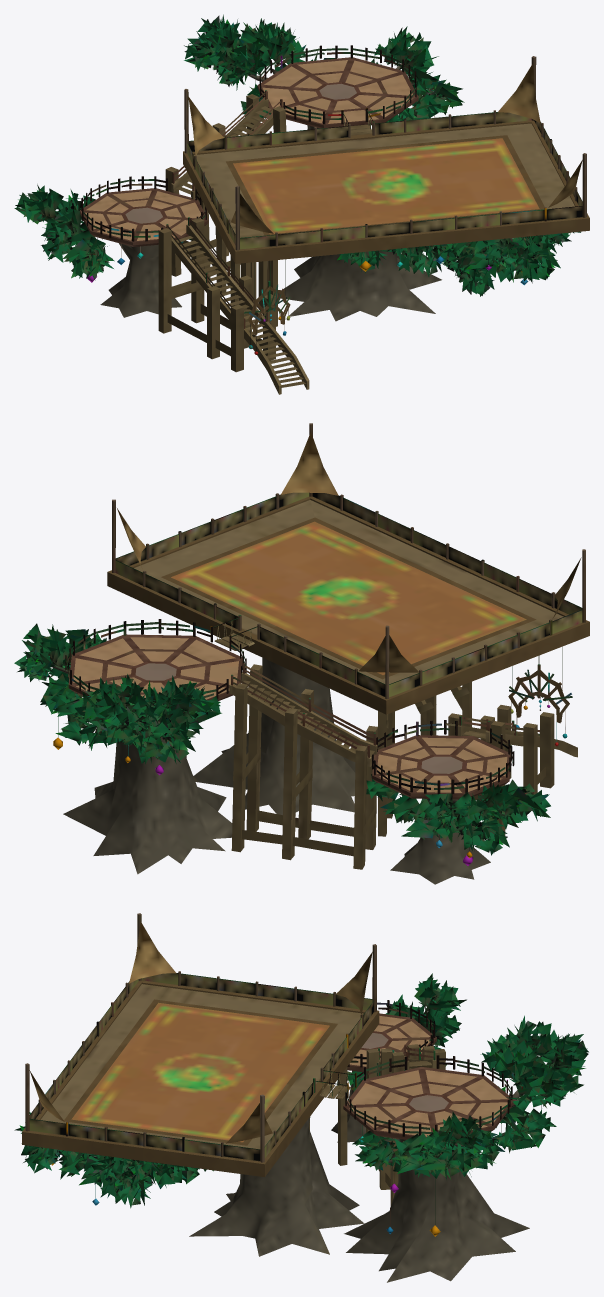
The model's file is clod_town_t03_clod_002.gltf.
The picture shows the model from 3 angles, top to bottom: view 1: azimuth 30°, elevation 25°; view 2: azimuth 150°, elevation 25°; view 3: azimuth 270°, elevation 25°; orthographic projection. The views are drawn at different scales.
Parts seen in each view (by area): view 1: um_clod_town_t03_clod_002_0_Shape1:aggregation_mat; view 2: um_clod_town_t03_clod_002_0_Shape1:aggregation_mat; view 3: um_clod_town_t03_clod_002_0_Shape1:aggregation_mat.
Part boxes in pixels (x1,y1,x2,y2): um_clod_town_t03_clod_002_0_Shape1:aggregation_mat: [14, 14, 589, 394]; um_clod_town_t03_clod_002_0_Shape1:aggregation_mat: [14, 423, 589, 884]; um_clod_town_t03_clod_002_0_Shape1:aggregation_mat: [14, 913, 588, 1282].
Size of the model in its own units: 41.21 by 17.89 by 44.27.
Materials: 1 (1 with a texture image).
